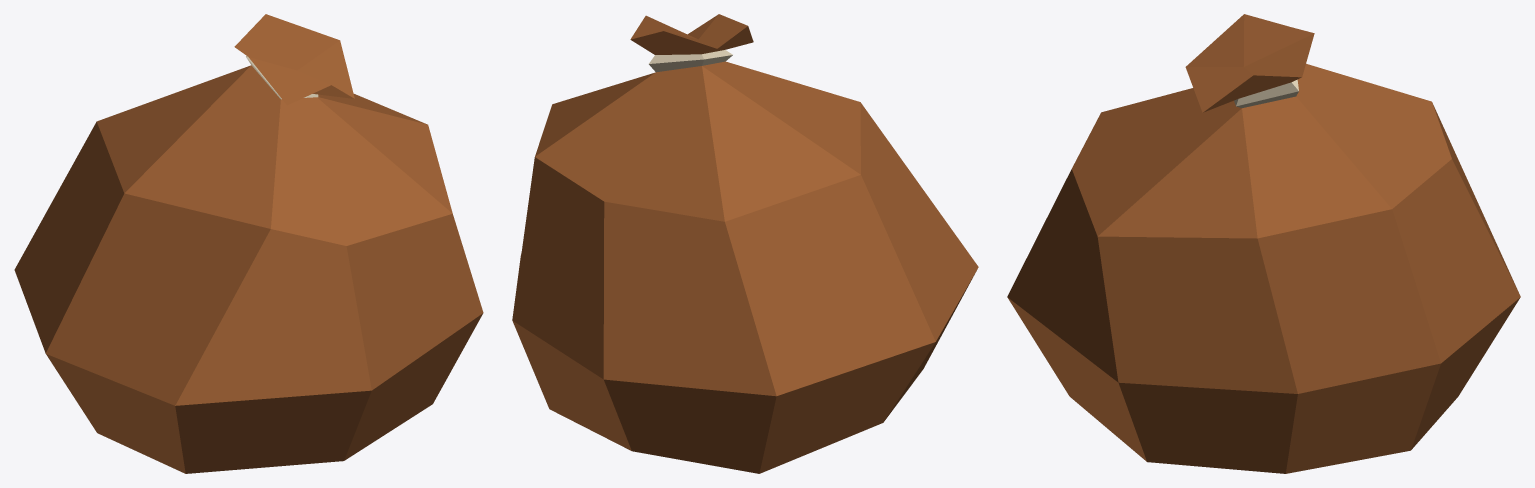
The model's file is Gunny Sack.glb.
3 renders of one model, left to right at view 1: azimuth 30°, elevation 25°; view 2: azimuth 150°, elevation 25°; view 3: azimuth 270°, elevation 25°, orthographic. The views are drawn at different scales.
Visible parts, largest first — view 1: Cube; view 2: Cube; view 3: Cube.
Part boxes in pixels (x1,y1,x2,y2): Cube: [14, 14, 483, 473]; Cube: [512, 14, 978, 473]; Cube: [1007, 14, 1520, 473].
Bounding box in the file's own units: 2.5 × 2.17 × 2.64.
